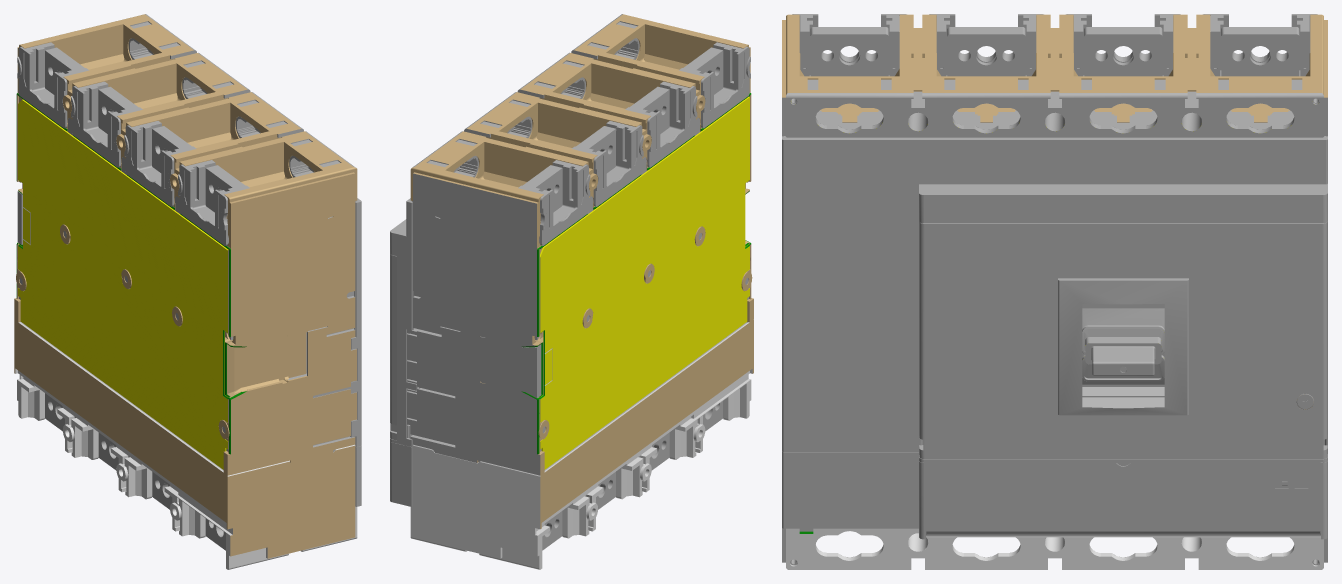
3 views of the same model, side by side, from view 1: azimuth 30°, elevation 25°; view 2: azimuth 150°, elevation 25°; view 3: azimuth 270°, elevation 25° (orthographic). The views are drawn at different scales.
Parts seen in each view (by area): view 1: 1SDH002065A1214_PART1; view 2: 1SDH002065A1214_PART1; view 3: 1SDH002065A1214_PART1.
Boxes of the visible parts, x1,y1,x2,y2 form: 1SDH002065A1214_PART1: (14, 14, 361, 569); 1SDH002065A1214_PART1: (390, 14, 753, 569); 1SDH002065A1214_PART1: (782, 14, 1327, 569).
Size of the model in its own units: 134 by 268 by 279.
